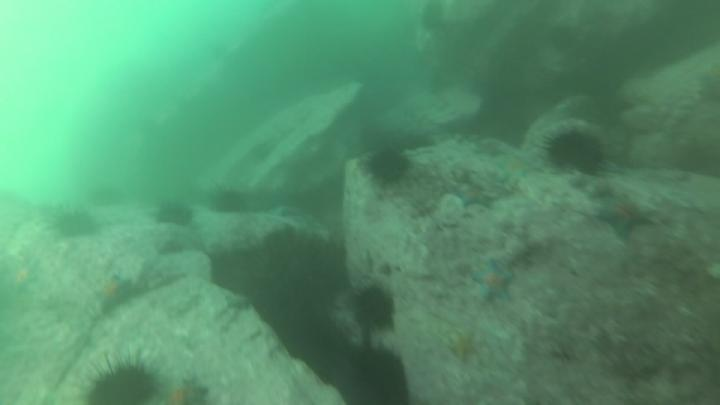echinus: (76, 350, 166, 405), (286, 316, 353, 386), (338, 343, 412, 405), (541, 127, 610, 177), (348, 285, 403, 336), (361, 147, 417, 190), (49, 209, 107, 242), (208, 185, 251, 215), (154, 201, 196, 226), (548, 24, 578, 54), (89, 185, 126, 209), (419, 1, 445, 35)
starfish: (599, 191, 656, 242), (472, 259, 518, 308), (94, 274, 137, 320), (446, 330, 490, 369), (163, 376, 216, 405), (7, 258, 44, 296), (453, 185, 503, 211), (500, 157, 536, 182), (471, 140, 511, 160), (224, 292, 256, 313)
